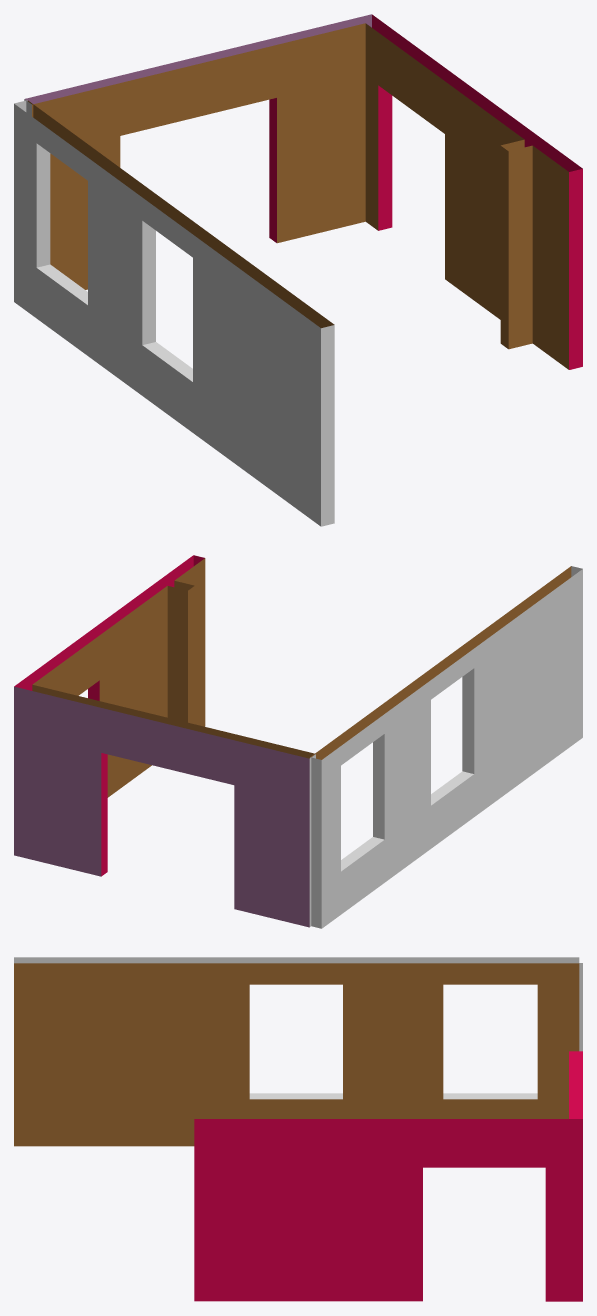
File: Pared 2.fbx
3 views of the same model, one above another, from view 1: azimuth 30°, elevation 25°; view 2: azimuth 150°, elevation 25°; view 3: azimuth 270°, elevation 25° (orthographic). The views are drawn at different scales.
Parts seen in each view (by area): view 1: Pared_9; view 2: Pared_9; view 3: Pared_9.
Part boxes in pixels (x1,y1,x2,y2): Pared_9: [14, 14, 582, 526]; Pared_9: [14, 555, 582, 928]; Pared_9: [14, 957, 582, 1301].
Size of the model in its own units: 569 by 300 by 846.
